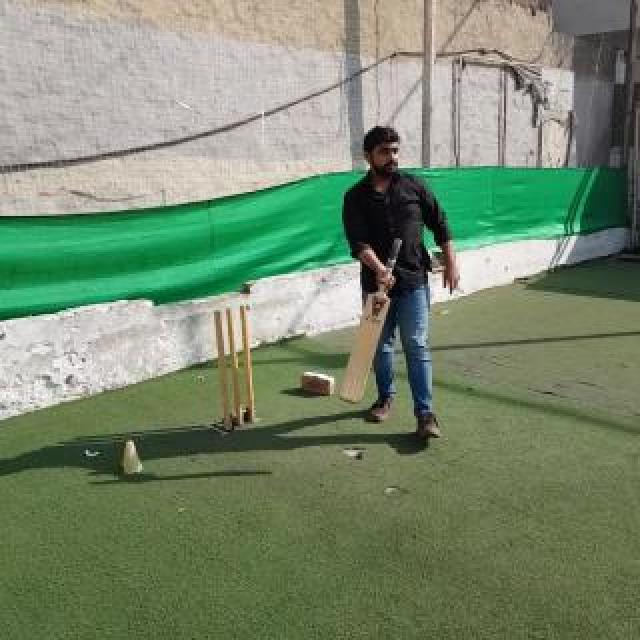bat: (339, 238, 403, 404)
